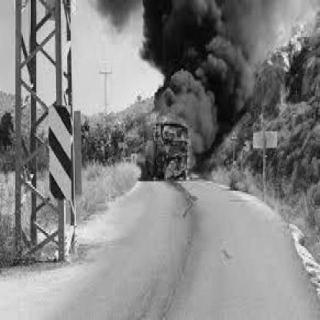Fire: (240, 1, 311, 185), (132, 93, 200, 190)
Smoke: (101, 0, 241, 137)
